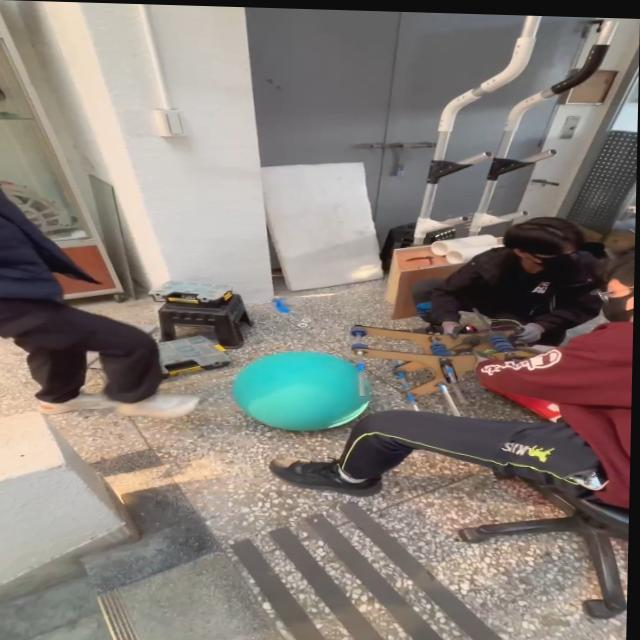ALGAE: (229, 348, 373, 434)
